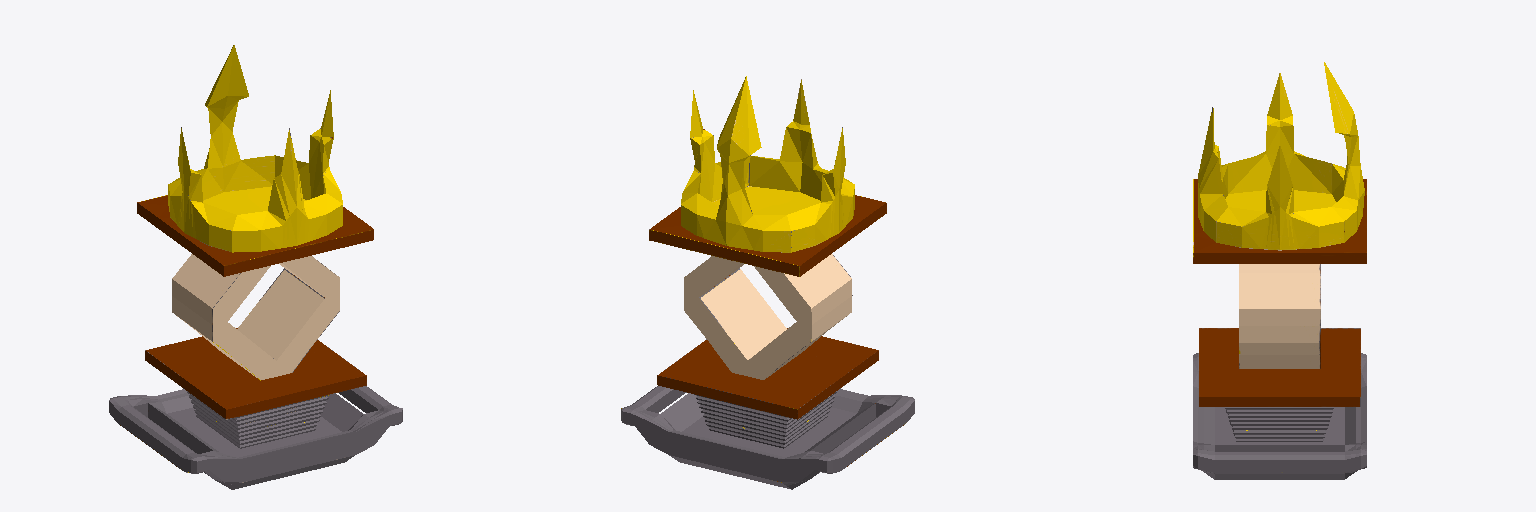
The picture shows the model from 3 angles: view 1: azimuth 30°, elevation 25°; view 2: azimuth 150°, elevation 25°; view 3: azimuth 270°, elevation 25°; orthographic projection.
Parts seen in each view (by area): view 1: Cube, 立方体.001, 立方体; view 2: Cube, 立方体.001, 立方体; view 3: Cube, 立方体.001, 立方体.
Part boxes in pixels (left/top/right/bottom): Cube: left=109, top=328, right=402, bottom=489; 立方体.001: left=137, top=45, right=373, bottom=276; 立方体: left=172, top=254, right=339, bottom=380; Cube: left=621, top=328, right=914, bottom=489; 立方体.001: left=649, top=76, right=886, bottom=276; 立方体: left=684, top=254, right=852, bottom=379; Cube: left=1193, top=328, right=1366, bottom=479; 立方体.001: left=1193, top=62, right=1366, bottom=263; 立方体: left=1239, top=264, right=1320, bottom=368.
Size of the model in its own units: 3.1 by 5.49 by 2.21.
3 materials, 1 textured.